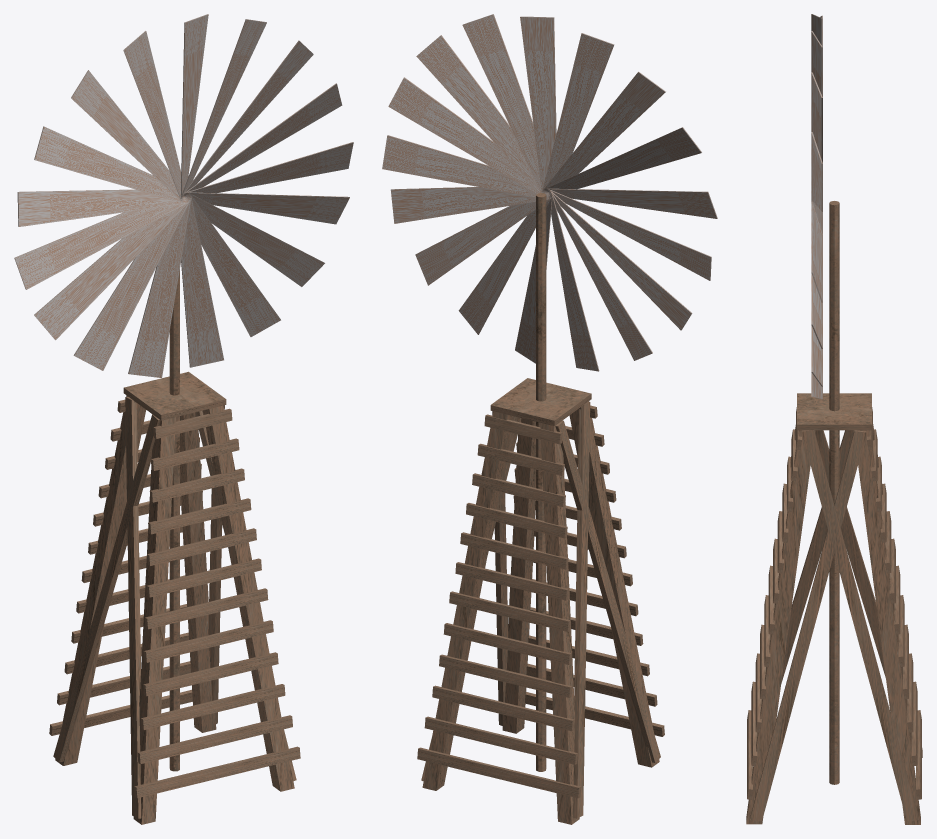
File: windmill.fbx
3 renders of one model, left to right at view 1: azimuth 30°, elevation 25°; view 2: azimuth 150°, elevation 25°; view 3: azimuth 270°, elevation 25°, orthographic.
Parts seen in each view (by area): view 1: strut_05, blades1; view 2: strut_05, blades1; view 3: strut_05, blades1.
Boxes of the visible parts, bbox=[...] form: strut_05: bbox=[49, 269, 300, 824]; blades1: bbox=[14, 14, 353, 377]; strut_05: bbox=[417, 193, 664, 824]; blades1: bbox=[382, 14, 717, 371]; strut_05: bbox=[746, 201, 922, 824]; blades1: bbox=[811, 14, 822, 399].
Size of the model in its own units: 21.78 by 47.25 by 9.99.
Materials: 1 (1 with a texture image).
